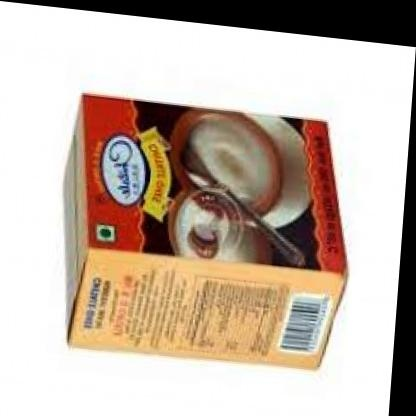trash: (66, 94, 345, 367)
